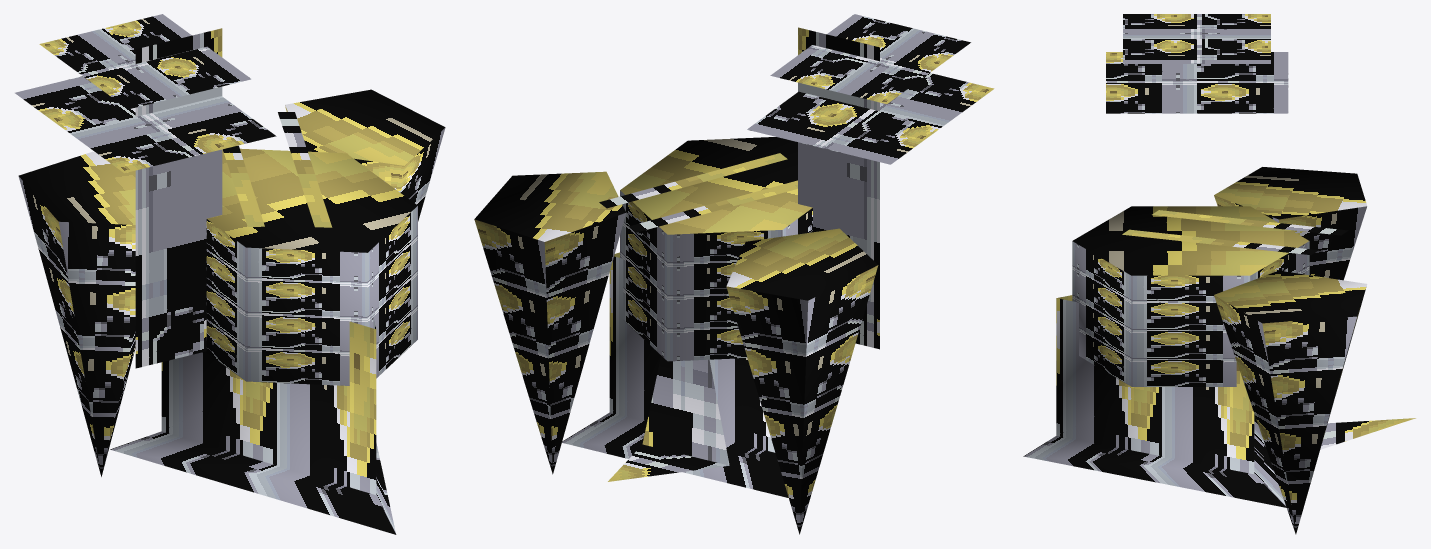
Rendered from 1348gakki07_c.gltf.
The picture shows the model from 3 angles, left to right: view 1: azimuth 30°, elevation 25°; view 2: azimuth 150°, elevation 25°; view 3: azimuth 270°, elevation 25°; orthographic projection. The views are drawn at different scales.
Visible parts, largest first — view 1: 1348gakki07_c; view 2: 1348gakki07_c; view 3: 1348gakki07_c.
Part boxes in pixels (x1=…): 1348gakki07_c: x1=15, y1=14, x2=445, y2=534; 1348gakki07_c: x1=474, y1=14, x2=994, y2=534; 1348gakki07_c: x1=1023, y1=14, x2=1415, y2=534.
Bounding box in the file's own units: 0.8696 × 0.9558 × 0.8599.
1 material, 1 textured.
